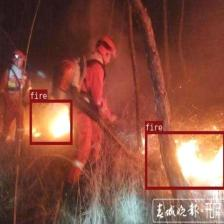fire: (144, 130, 224, 188), (29, 99, 72, 144)
